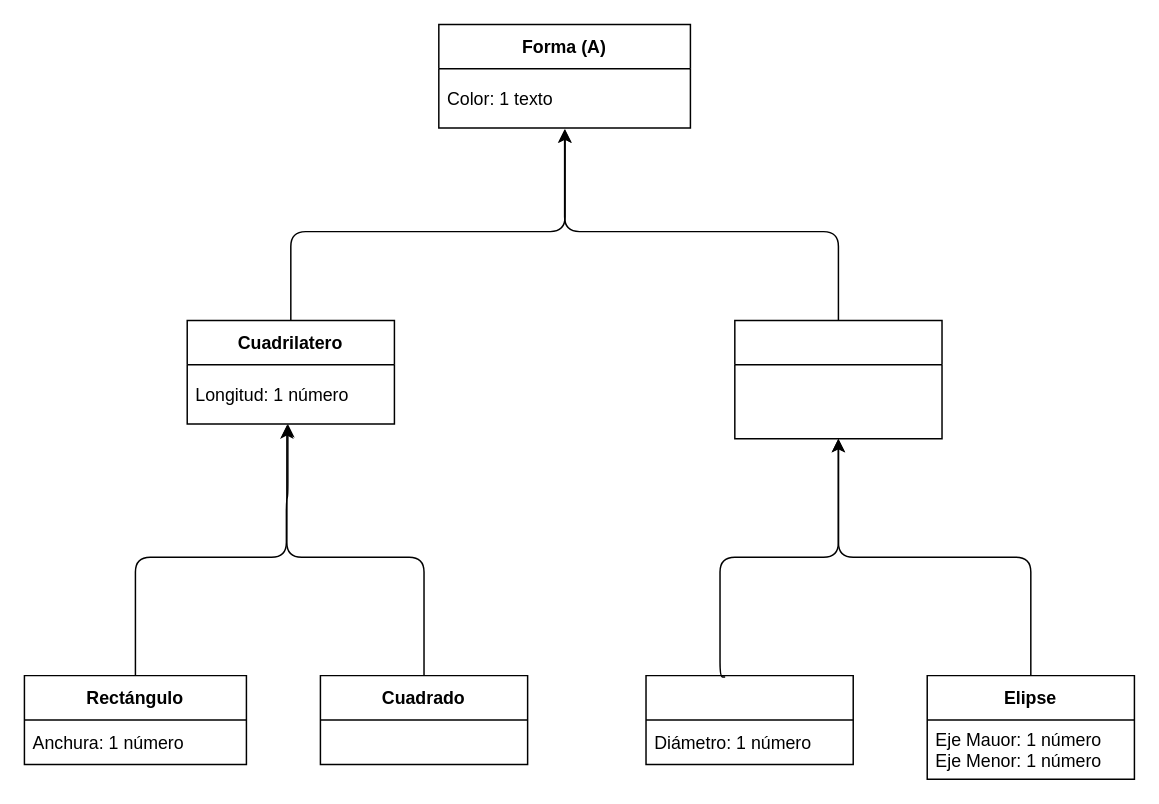
Image size: 1159x804. Some labels were removed from this diagram. The box of each missing label's shape, as (x1, y1, x2, y2) in pixels:
Círculo: (645, 674, 853, 764)
Cónica: (733, 319, 942, 439)
